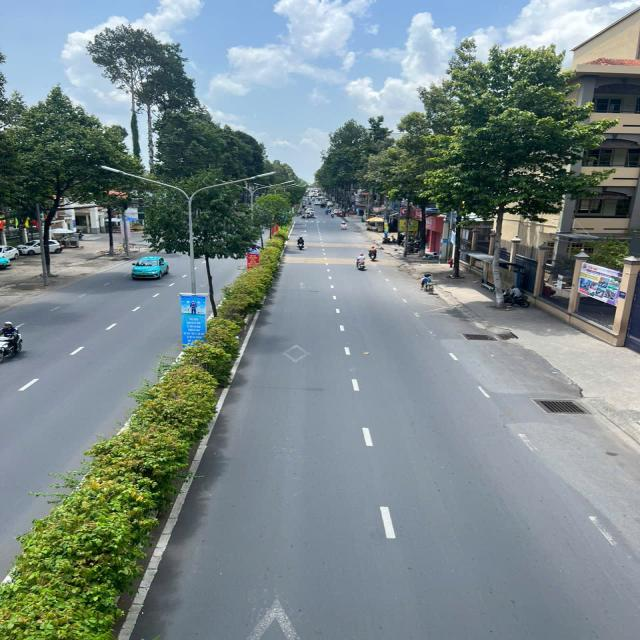Bicycle: (420, 272, 437, 294)
Truck: (302, 200, 310, 208)
car: (125, 256, 170, 282), (305, 209, 316, 217), (338, 211, 344, 217), (314, 198, 320, 204), (334, 209, 342, 213)
motobyte: (0, 311, 23, 371), (356, 253, 367, 273), (368, 246, 378, 262), (298, 236, 305, 250), (331, 212, 335, 219), (324, 209, 328, 215)
non-motorized vehicle: (340, 221, 347, 230)
